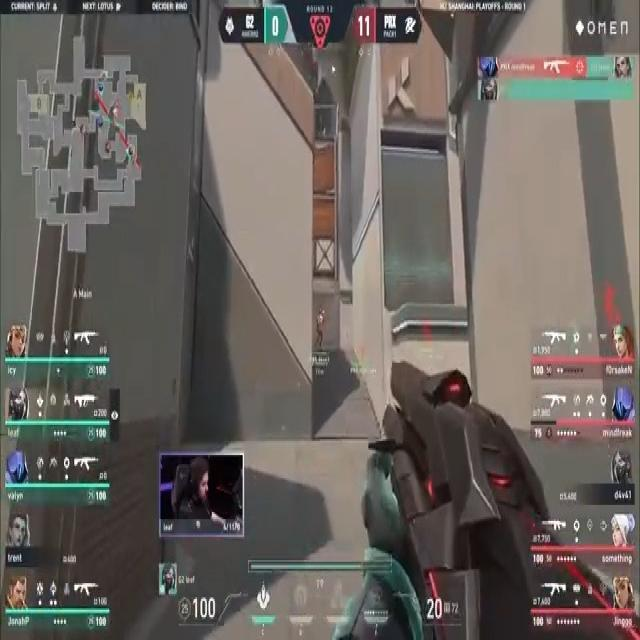enemy: (316, 307, 330, 353)
